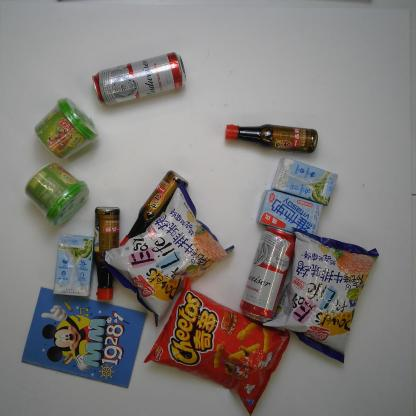Alcohol: (237, 224, 302, 323), (90, 50, 188, 108)
Instant Drink: (31, 93, 101, 162), (22, 160, 91, 228)
Milk: (253, 187, 328, 240), (270, 156, 340, 208), (52, 233, 98, 300)
Puffed Food: (145, 278, 290, 414), (104, 182, 235, 329), (258, 226, 379, 366)
Seasoner: (117, 168, 191, 263), (223, 118, 319, 154), (92, 206, 122, 303)
Stationery: (20, 287, 150, 390)
